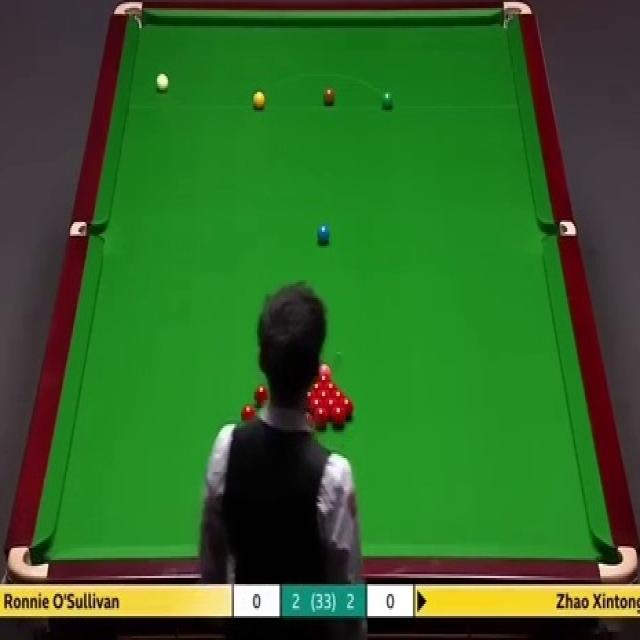blue-ball: (316, 225, 331, 242)
brown-ball: (323, 88, 335, 107)
green-ball: (380, 88, 395, 110)
pink-ball: (317, 364, 332, 378)
red-ball: (329, 407, 347, 428), (240, 404, 256, 426), (316, 405, 331, 427), (253, 385, 269, 405), (337, 397, 352, 418), (325, 398, 338, 419), (304, 389, 315, 401), (318, 390, 329, 402), (318, 375, 328, 387)
white-ball: (156, 74, 169, 90)
yellow-ball: (253, 90, 265, 110)
